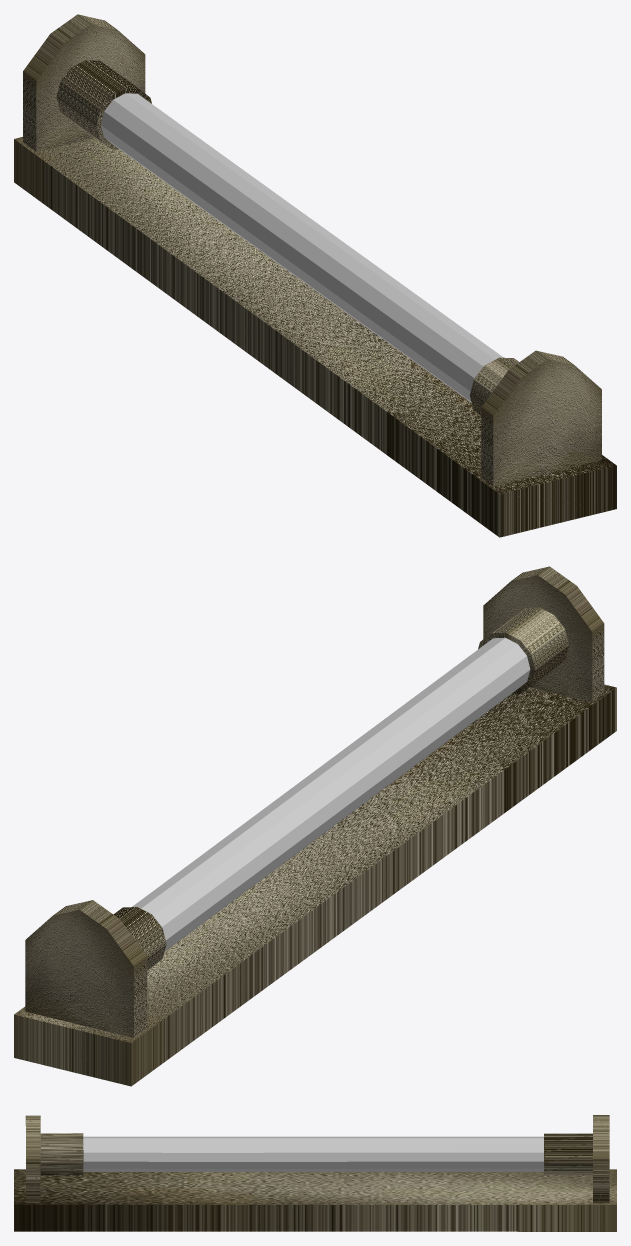
The model's file is neon.fbx.
3 views of the same model, one above another, from view 1: azimuth 30°, elevation 25°; view 2: azimuth 150°, elevation 25°; view 3: azimuth 270°, elevation 25° (orthographic). The views are drawn at different scales.
Parts seen in each view (by area): view 1: Cube; view 2: Cube; view 3: Cube.
Part boxes in pixels (box(x1,y1,x2,y2)): Cube: box(14, 14, 616, 537); Cube: box(14, 566, 616, 1086); Cube: box(14, 1115, 616, 1231).
Size of the model in its own units: 0.8292 by 1.07 by 5.94.
2 materials, 1 textured.
